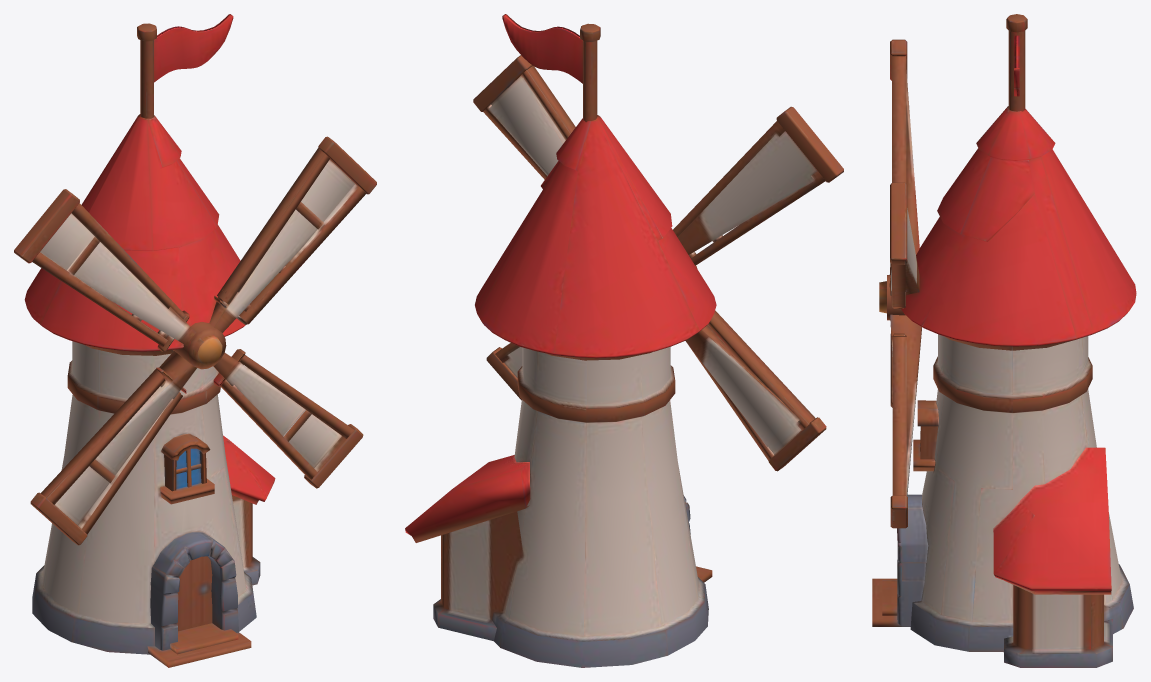
File: windmill.glb
3 views of the same model, side by side, from view 1: azimuth 30°, elevation 25°; view 2: azimuth 150°, elevation 25°; view 3: azimuth 270°, elevation 25° (orthographic). The views are drawn at different scales.
Visible parts, largest first — view 1: prop; view 2: prop; view 3: prop.
Boxes of the visible parts, x1,y1,x2,y2 form: prop: [14, 14, 376, 667]; prop: [405, 14, 843, 667]; prop: [872, 14, 1136, 667].
Bounding box in the file's own units: 0.6444 × 1 × 0.403.
1 material, 1 textured.
